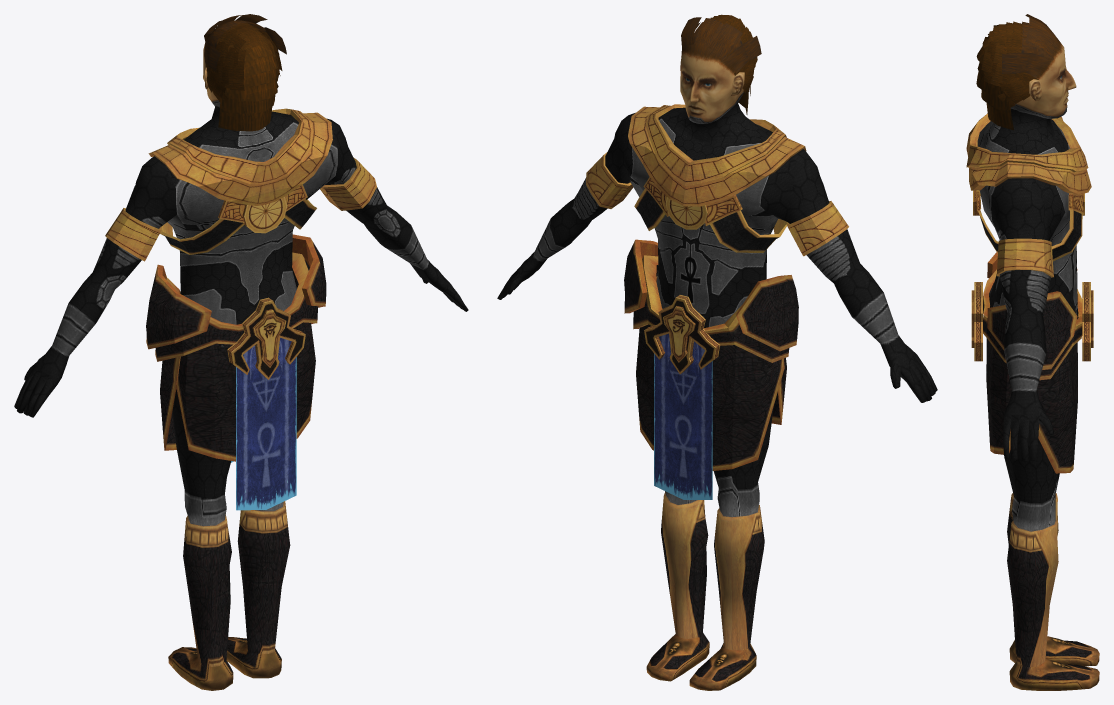
File: Pers1.fbx
The picture shows the model from 3 angles, left to right: view 1: azimuth 30°, elevation 25°; view 2: azimuth 150°, elevation 25°; view 3: azimuth 270°, elevation 25°; orthographic projection. The views are drawn at different scales.
Visible parts, largest first — view 1: Horus1.002, Horus1; view 2: Horus1.002, Horus1; view 3: Horus1.002, Horus1.
Part boxes in pixels (bbox=[...]): Horus1.002: bbox=[14, 14, 468, 690]; Horus1: bbox=[105, 108, 376, 510]; Horus1.002: bbox=[497, 14, 937, 690]; Horus1: bbox=[586, 104, 848, 499]; Horus1.002: bbox=[976, 14, 1099, 690]; Horus1: bbox=[966, 113, 1093, 473].
Bounding box in the file's own units: 548 × 782 × 145.
